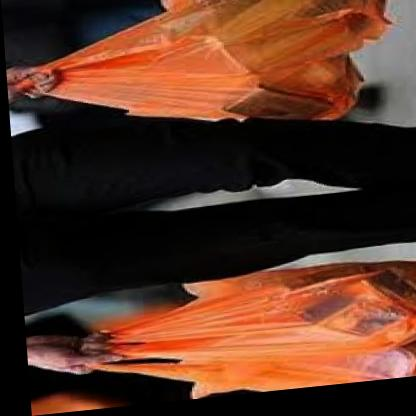Plastic: (8, 0, 392, 142), (71, 254, 416, 412)
